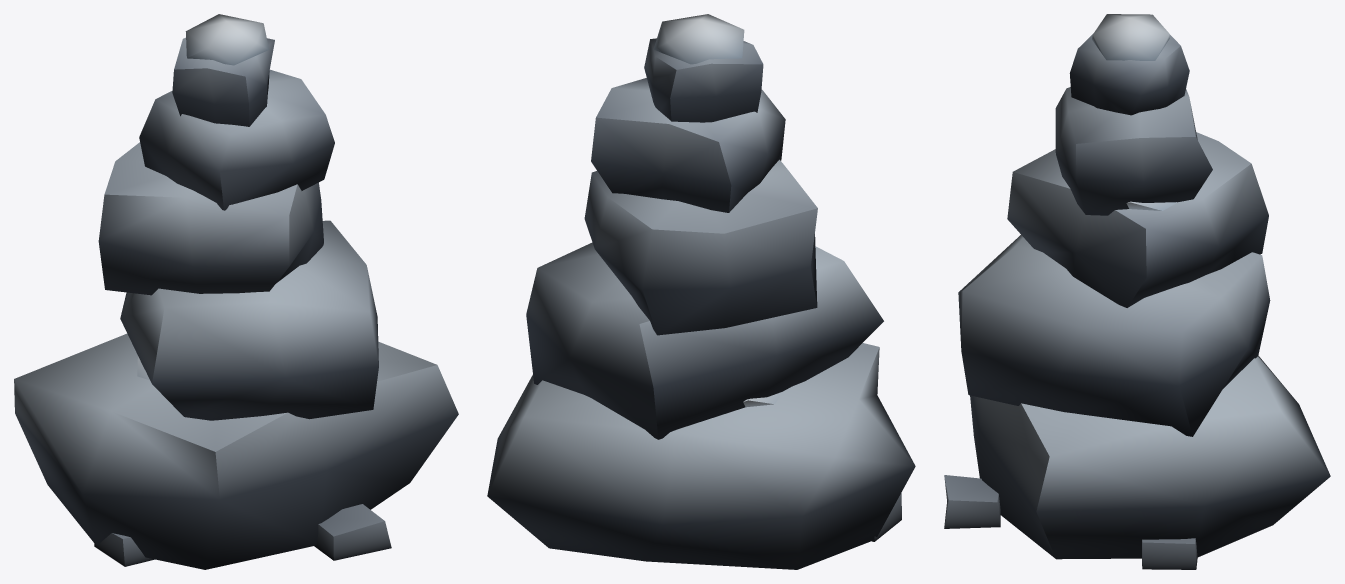
File: cairn_frozen.glb
3 renders of one model, left to right at view 1: azimuth 30°, elevation 25°; view 2: azimuth 150°, elevation 25°; view 3: azimuth 270°, elevation 25°, orthographic. The views are drawn at different scales.
Parts seen in each view (by area): view 1: cairn_frozen; view 2: cairn_frozen; view 3: cairn_frozen.
Boxes of the visible parts, box(x1,y1,x2,y2) form: cairn_frozen: box(14, 14, 458, 569); cairn_frozen: box(487, 14, 915, 569); cairn_frozen: box(944, 14, 1330, 569).
Bounding box in the file's own units: 1.01 × 1.29 × 0.9375.
